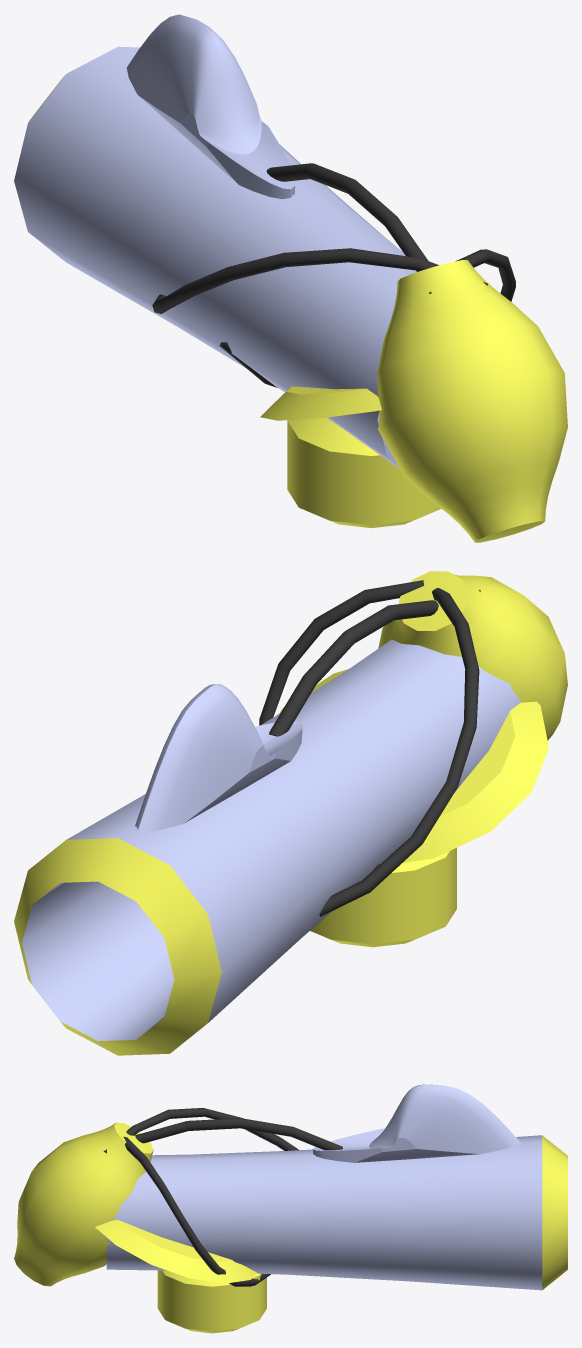
Rendered from Squid.FBX.
The picture shows the model from 3 angles, top to bottom: view 1: azimuth 30°, elevation 25°; view 2: azimuth 150°, elevation 25°; view 3: azimuth 270°, elevation 25°; orthographic projection. The views are drawn at different scales.
Visible parts, largest first — view 1: Squid; view 2: Squid; view 3: Squid.
Boxes of the visible parts, left/top/right/bottom form: Squid: left=14, top=14, right=567, bottom=542; Squid: left=14, top=571, right=567, bottom=1055; Squid: left=14, top=1084, right=567, bottom=1333.
Size of the model in its own units: 27.91 by 75.63 by 36.07.
